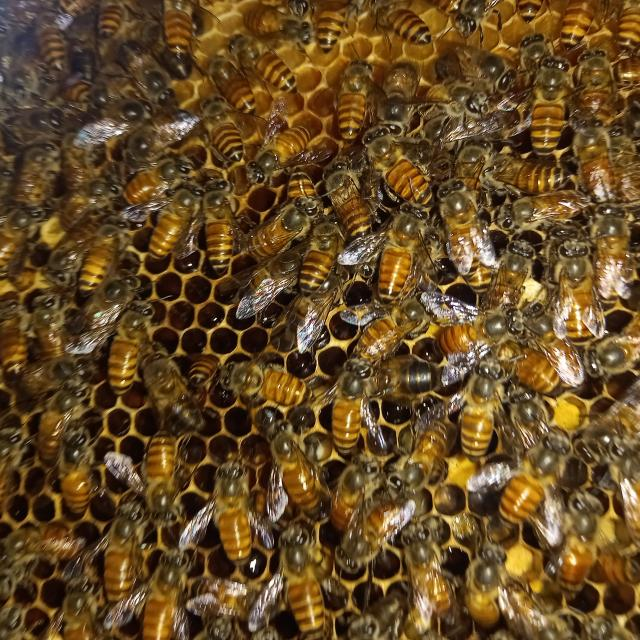honeybee: (203, 455, 269, 545), (458, 357, 513, 464), (131, 350, 210, 420), (429, 177, 486, 271), (341, 502, 399, 593), (553, 241, 610, 333), (516, 590, 618, 640), (89, 279, 160, 349), (275, 530, 324, 631), (227, 252, 304, 316), (55, 558, 113, 640), (212, 365, 305, 416), (520, 310, 580, 388), (530, 51, 572, 158), (322, 374, 377, 454), (257, 438, 308, 519), (139, 423, 187, 508), (26, 376, 89, 440), (58, 429, 102, 520), (391, 530, 443, 606), (516, 436, 574, 503), (497, 236, 539, 328), (242, 123, 327, 168), (125, 101, 195, 155), (474, 154, 560, 196), (594, 208, 635, 296), (344, 579, 403, 640), (364, 356, 453, 396), (102, 308, 148, 385), (483, 194, 575, 232), (143, 548, 181, 640), (572, 120, 617, 197), (152, 186, 200, 258), (388, 204, 420, 312), (368, 141, 420, 207), (252, 195, 314, 250), (103, 508, 143, 592), (189, 94, 240, 159), (472, 558, 516, 630), (297, 261, 345, 326), (568, 508, 604, 594), (241, 7, 320, 46), (200, 588, 267, 633), (369, 8, 433, 54), (324, 470, 373, 530), (226, 34, 280, 88), (198, 181, 233, 264), (332, 64, 368, 143), (0, 516, 60, 563), (110, 160, 182, 199), (320, 164, 364, 226), (94, 237, 137, 300), (28, 300, 68, 363), (580, 49, 618, 115), (49, 85, 109, 126), (408, 427, 447, 490), (444, 90, 480, 158), (22, 22, 75, 68), (449, 56, 514, 93), (579, 422, 640, 461), (150, 12, 202, 56), (558, 4, 600, 52), (50, 232, 86, 288), (211, 61, 251, 110), (576, 346, 635, 378), (317, 8, 354, 57), (58, 166, 90, 222), (447, 6, 495, 43), (18, 164, 52, 214), (11, 113, 54, 145), (91, 6, 124, 36), (481, 477, 490, 483), (511, 292, 518, 296)
